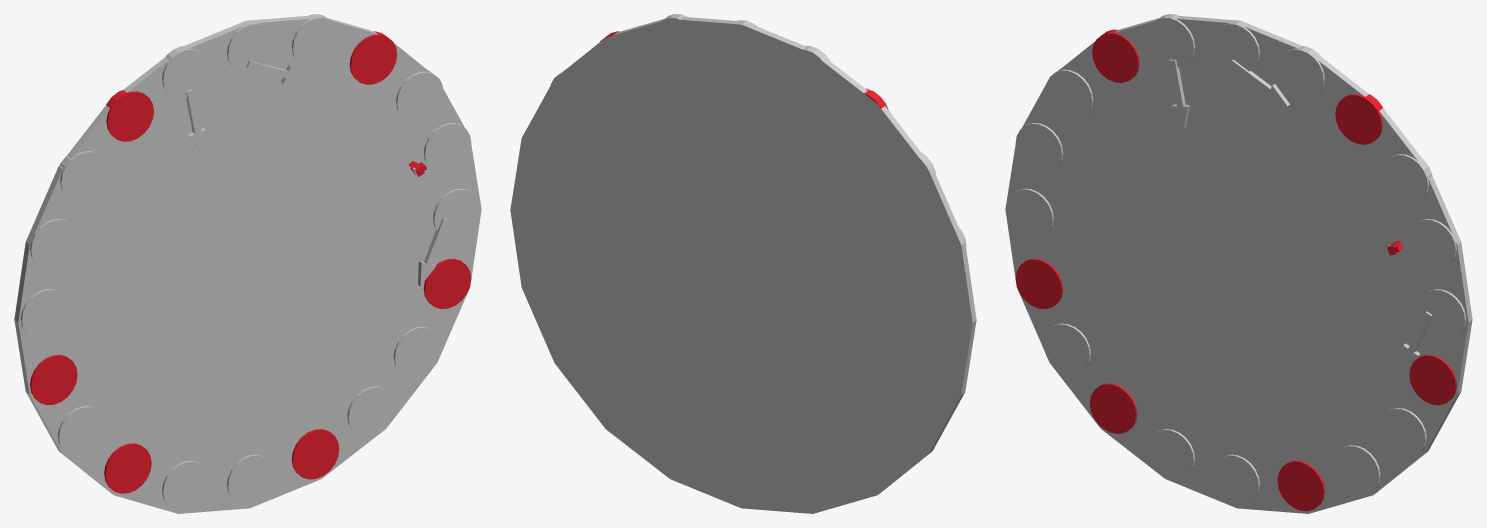
The model's file is Limbo.obj.
3 views of the same model, side by side, from view 1: azimuth 30°, elevation 25°; view 2: azimuth 150°, elevation 25°; view 3: azimuth 330°, elevation 25° (orthographic).
Visible parts, largest first — view 1: group_0_10988977, group_0_6383466, group_0_15277357, group_0_9771553, group_0_2829873; view 2: group_0_10988977, group_0_6383466; view 3: group_0_10988977, group_0_6383466, group_0_15277357, group_0_9771553, group_0_2829873.
Part boxes in pixels (left/top/right/bottom): group_0_10988977: left=14, top=16, right=481, bottom=513; group_0_6383466: left=20, top=14, right=480, bottom=504; group_0_15277357: left=30, top=31, right=471, bottom=493; group_0_9771553: left=186, top=60, right=449, bottom=286; group_0_2829873: left=162, top=460, right=209, bottom=511; group_0_10988977: left=510, top=17, right=976, bottom=513; group_0_6383466: left=550, top=14, right=966, bottom=247; group_0_10988977: left=1005, top=16, right=1472, bottom=513; group_0_6383466: left=1006, top=14, right=1466, bottom=504; group_0_15277357: left=1015, top=29, right=1456, bottom=511; group_0_9771553: left=1169, top=59, right=1432, bottom=368; group_0_2829873: left=1147, top=429, right=1195, bottom=479.
Bounding box in the file's own units: 200 × 200 × 9.
